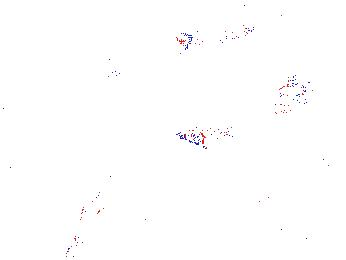X-ray fish: (92, 48, 124, 90)
glassfish: (69, 164, 123, 248), (176, 121, 282, 152)
red belly glassfish: (261, 94, 296, 115), (275, 83, 308, 101)
redtail glassfish: (169, 21, 256, 57)
